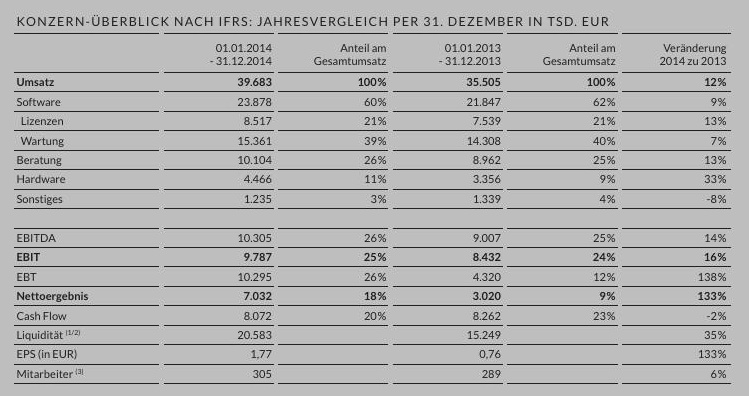table: (0, 0, 749, 396)
